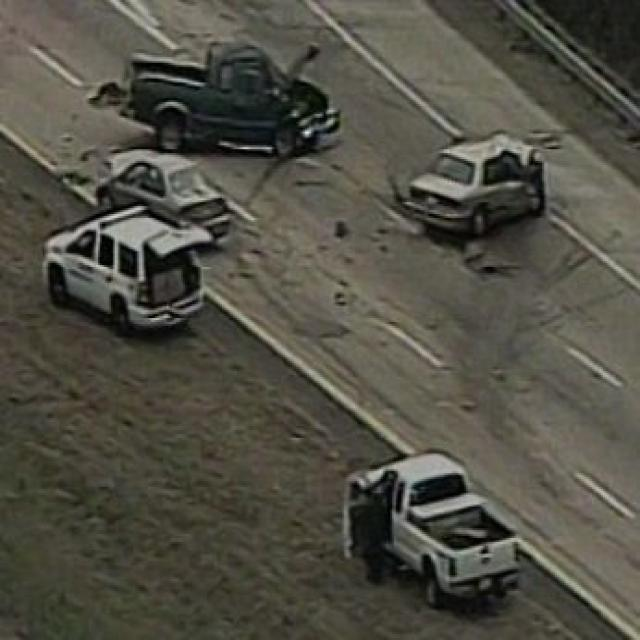traffic_incident: (100, 16, 346, 153), (396, 128, 560, 238), (74, 142, 240, 240)
